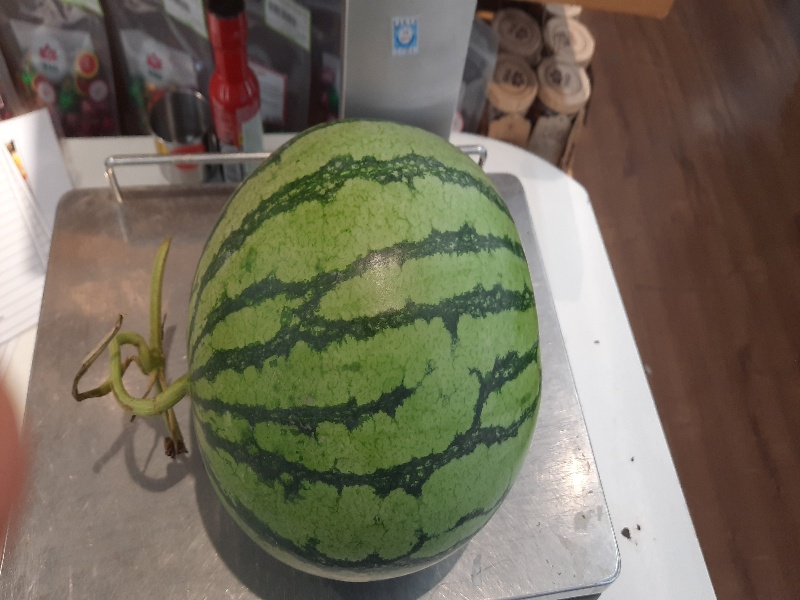fruit: (70, 119, 550, 581)
